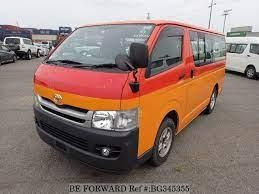van: (32, 17, 228, 164)
